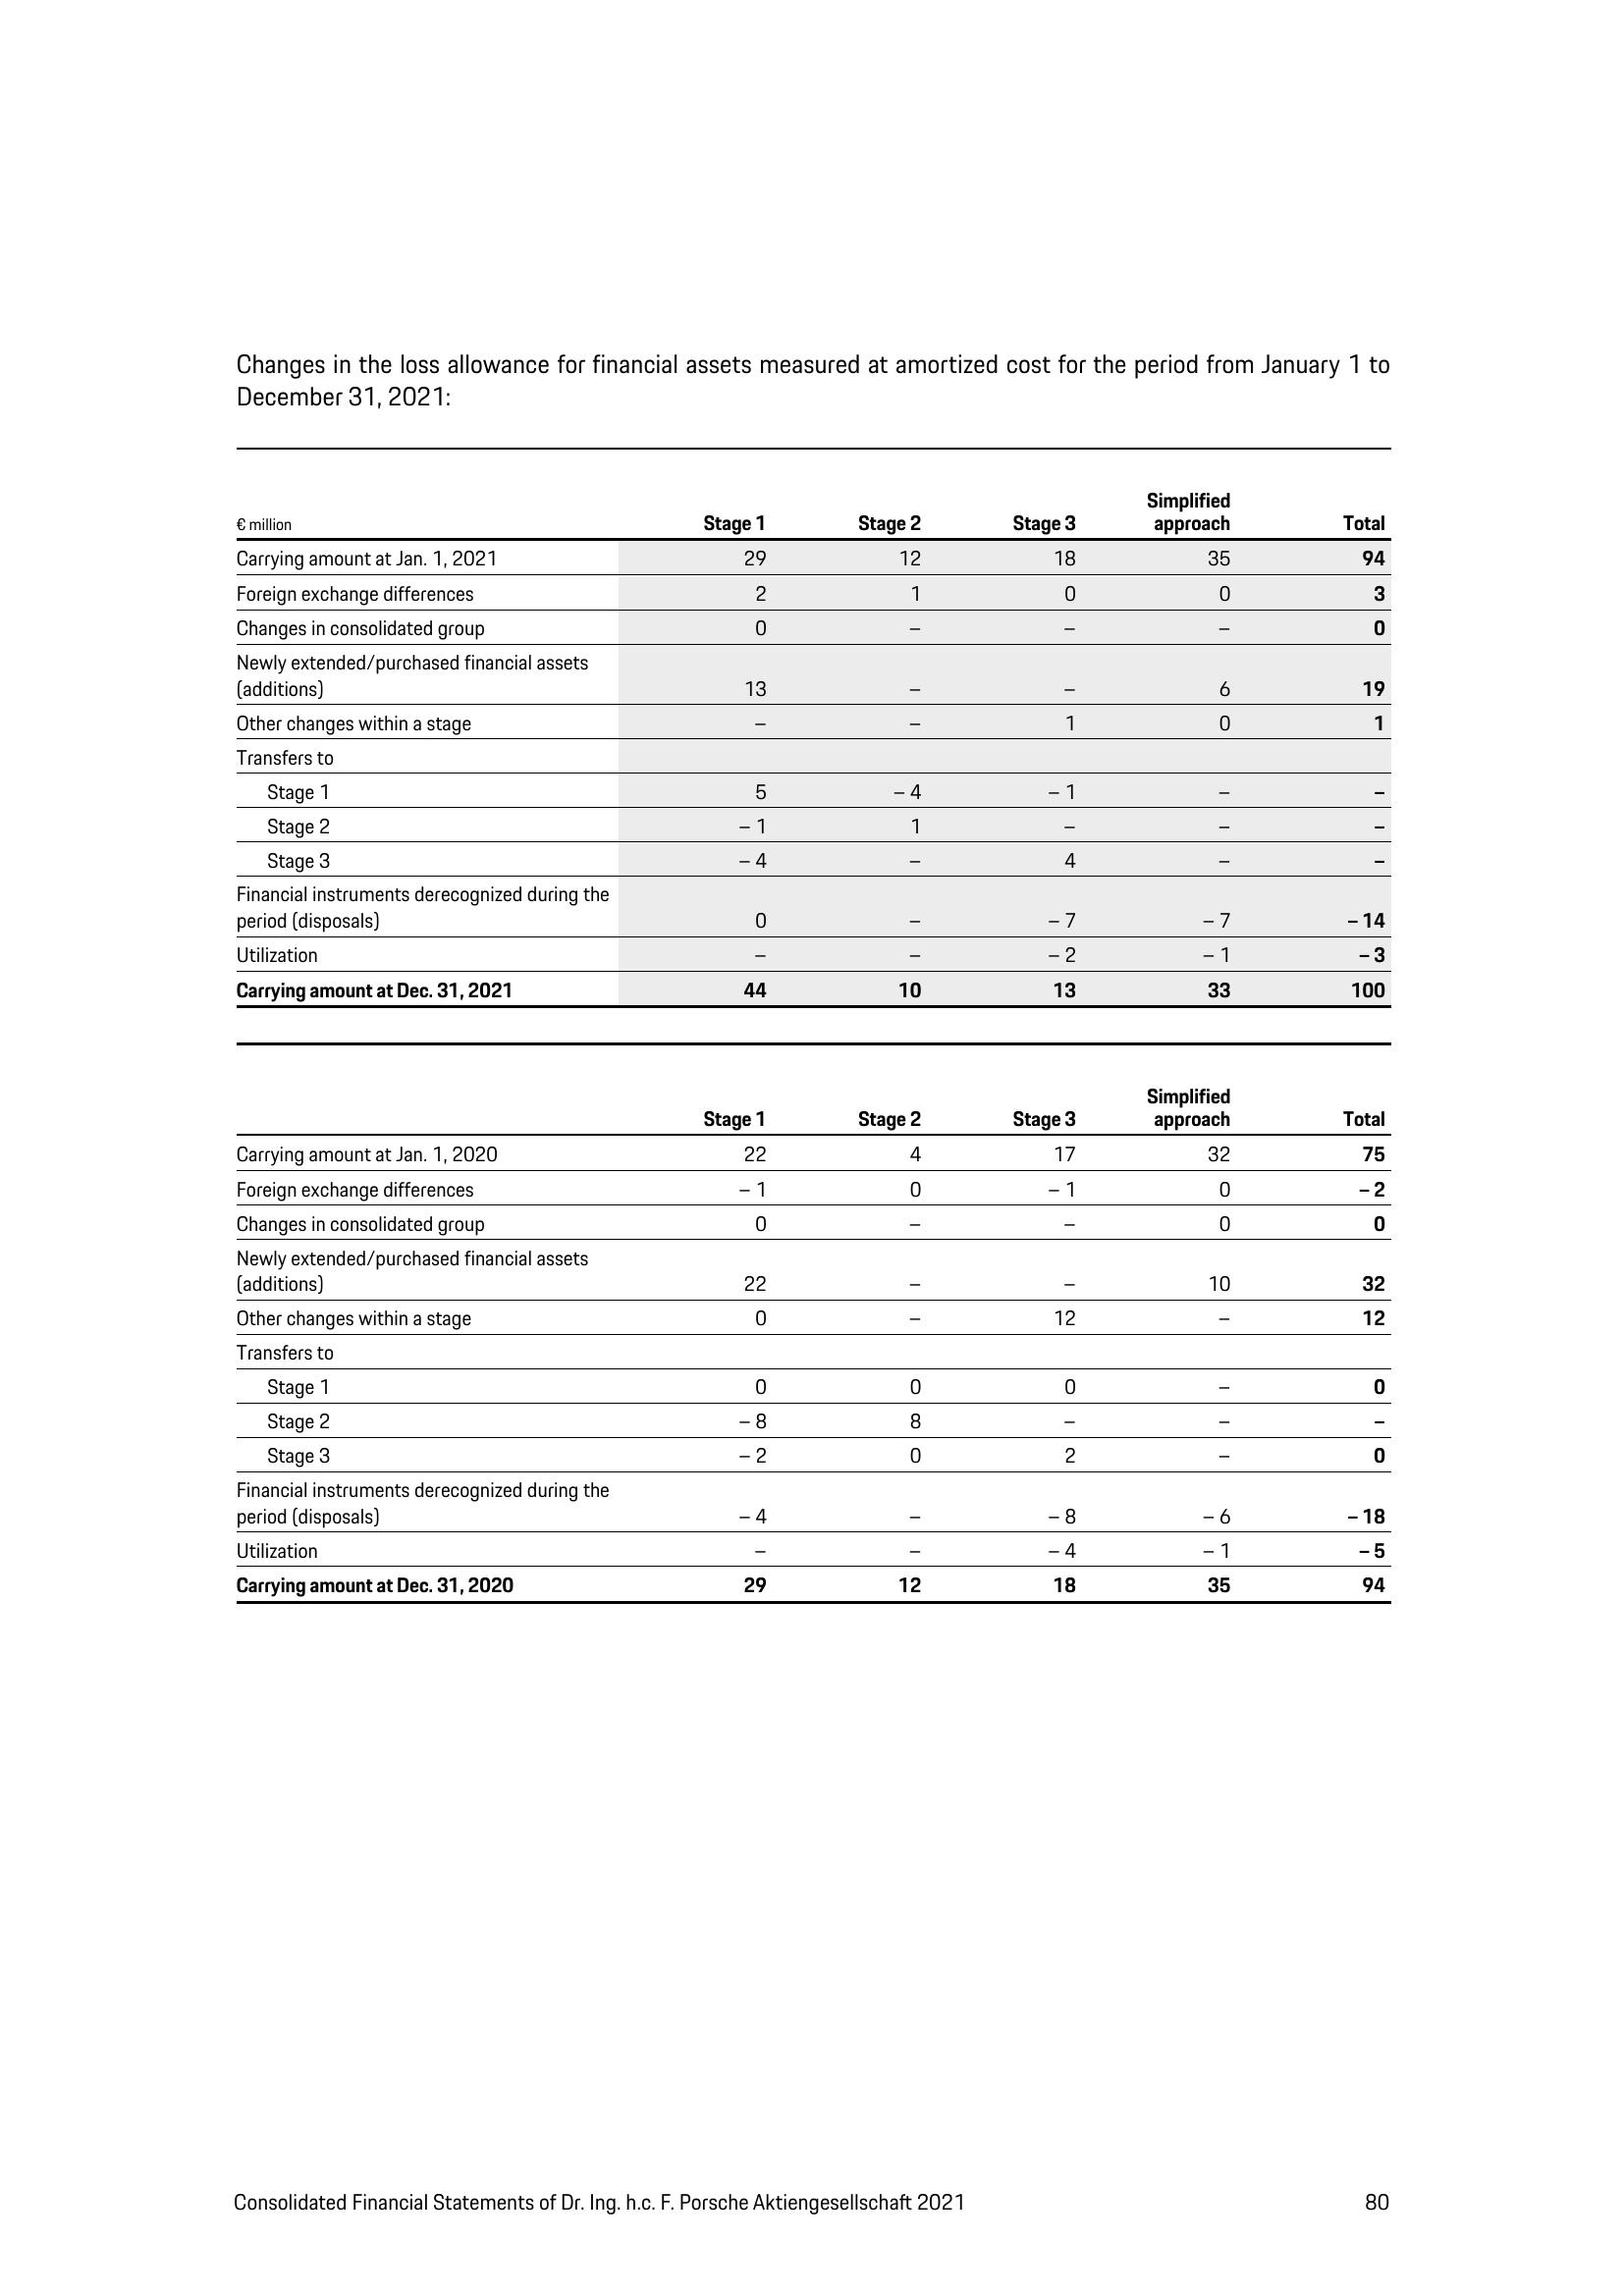Footer: (0, 2161, 1624, 2296)
Header: (0, 0, 1624, 220)
Table: (186, 1051, 1411, 1621), (199, 443, 1417, 1015)
